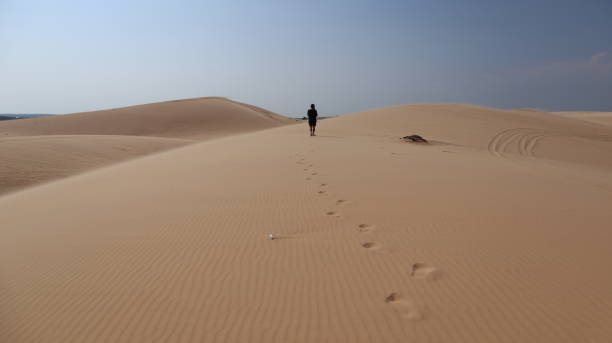human_foot_print: (385, 292, 424, 320), (410, 262, 439, 280), (356, 238, 380, 252), (358, 226, 386, 236), (331, 198, 354, 208), (326, 207, 343, 219), (319, 178, 330, 194)
